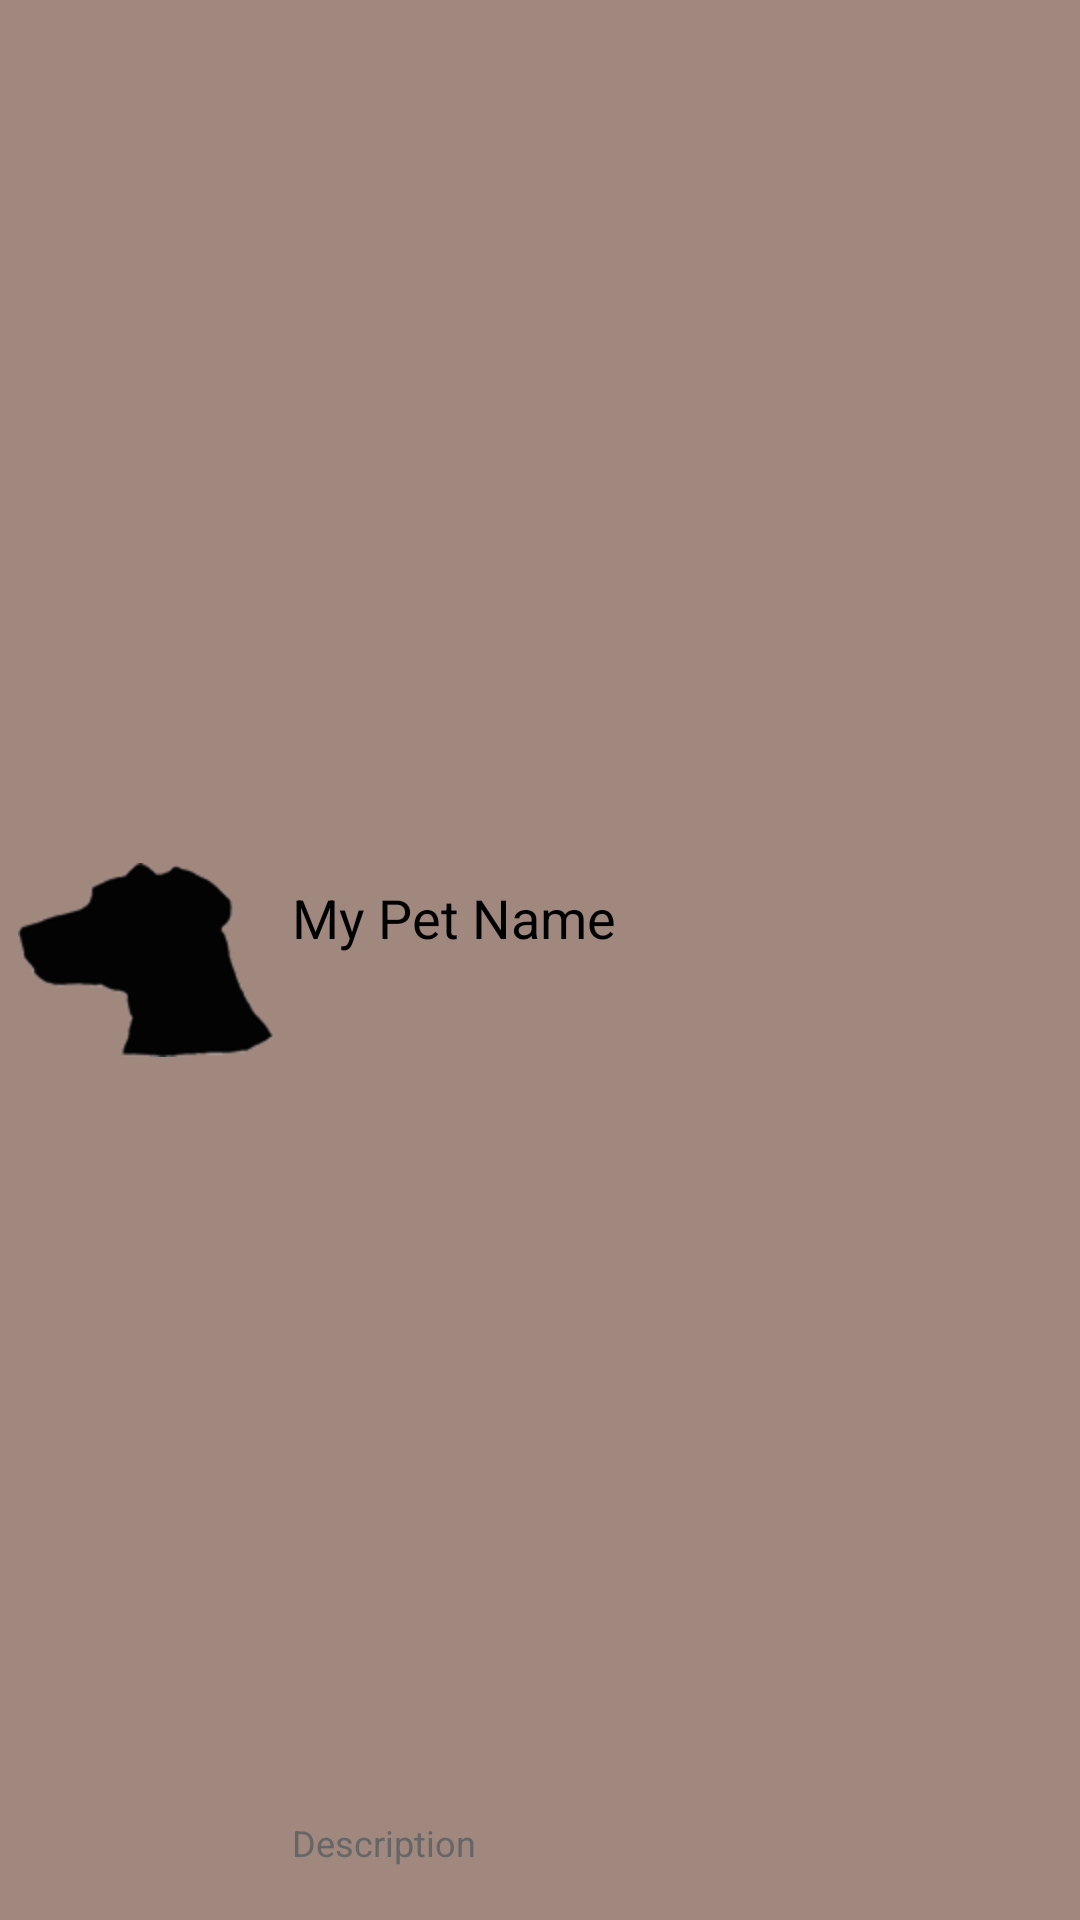

Icons on this 1080 × 1920 Android screen, each with the point to tap as (x=x, y=y):
profile pic: (x=145, y=960)
